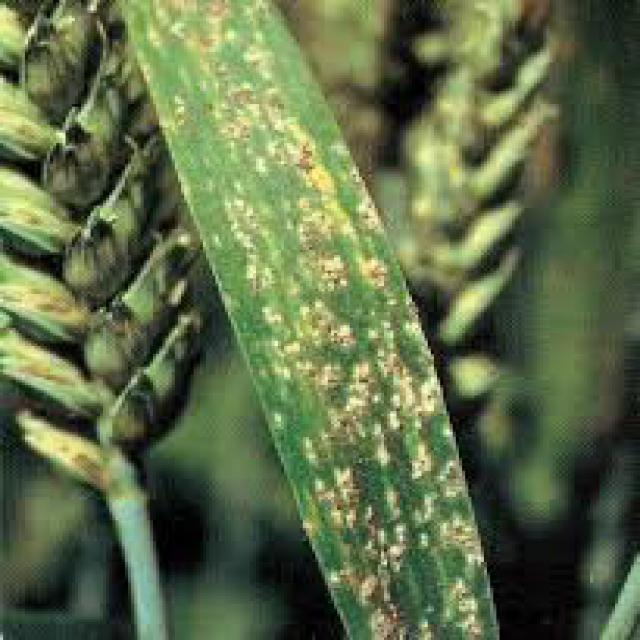wheat-powdery-mildew: (119, 0, 503, 640)
